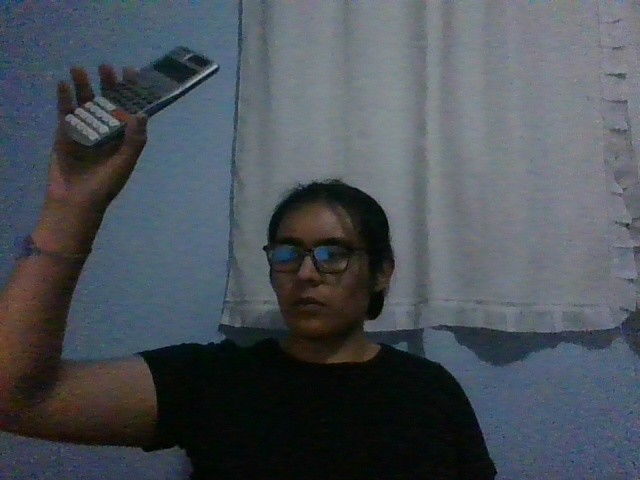calculadora: (63, 45, 220, 149)
